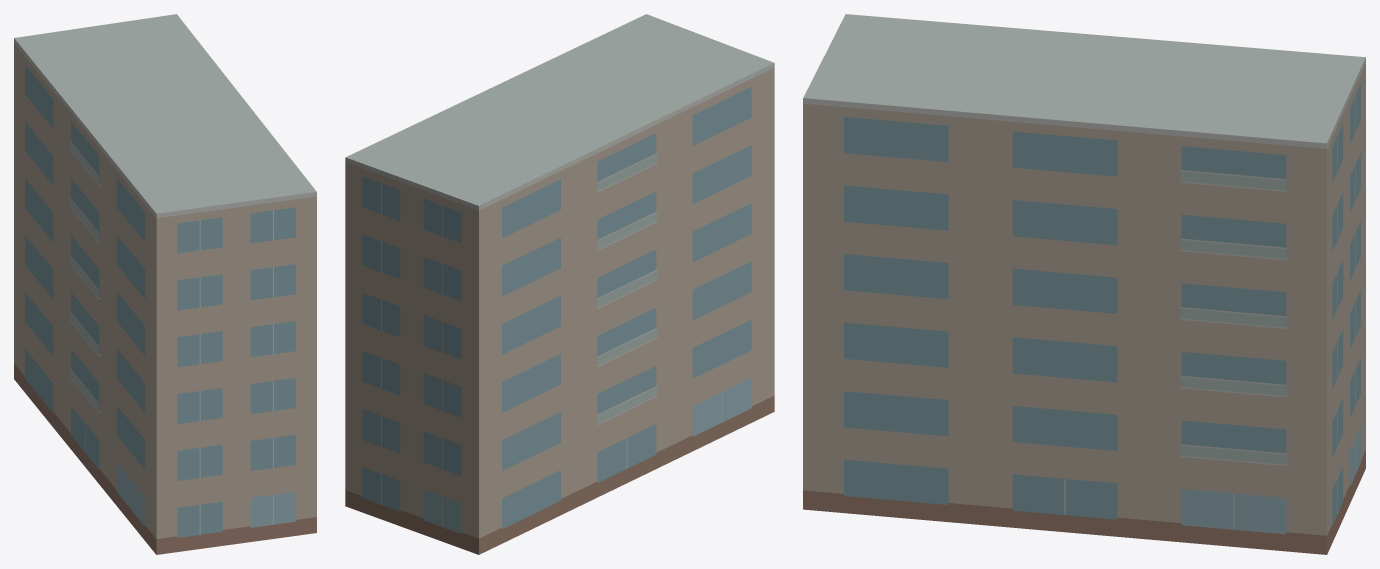
File: survey-upis-32700971.glb
3 renders of one model, left to right at view 1: azimuth 30°, elevation 25°; view 2: azimuth 150°, elevation 25°; view 3: azimuth 270°, elevation 25°, orthographic. The views are drawn at different scales.
Parts seen in each view (by area): view 1: survey-upis-32700971.tmp; view 2: survey-upis-32700971.tmp; view 3: survey-upis-32700971.tmp.
Part boxes in pixels (x1,y1,x2,y2): survey-upis-32700971.tmp: (14,14,316,554); survey-upis-32700971.tmp: (345,14,774,554); survey-upis-32700971.tmp: (803,14,1365,554).
Bounding box in the file's own units: 12.15 × 18 × 22.32.
